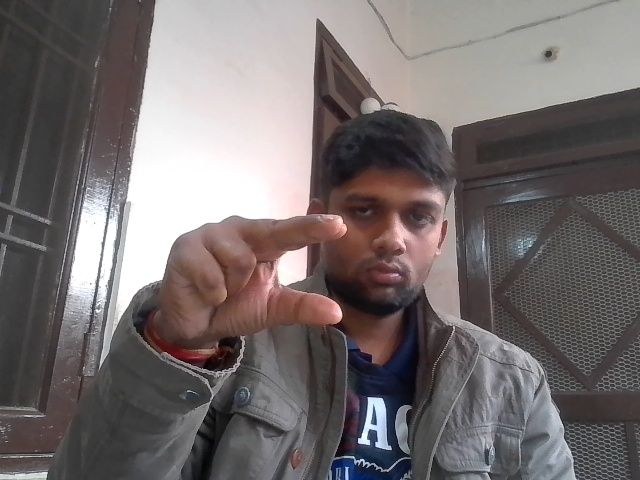No: (144, 201, 373, 364)
